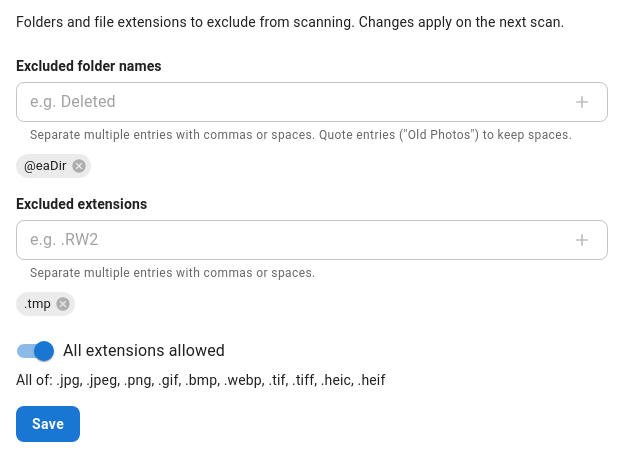
Test case: SettingsPage › shows a field error from a failed save
Click the button "Save": (48, 424) left=16, top=406, right=80, bottom=442
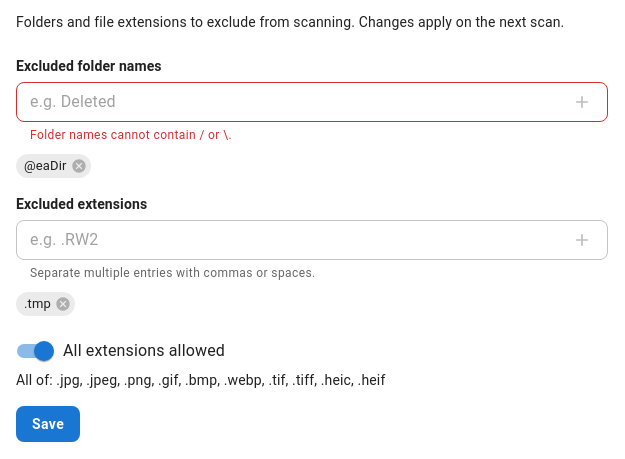
Check: the text "Folder names cannot contain / or \\." is shown, box left=30, top=128, right=232, bottom=142
